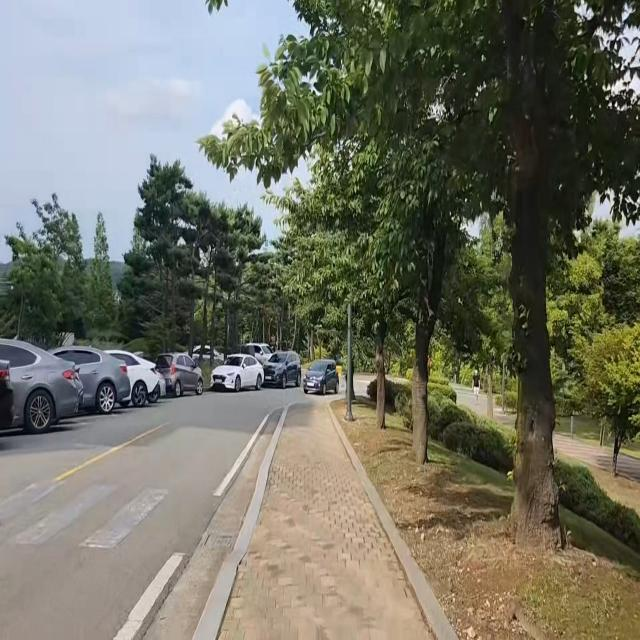obstacle: (42, 344, 206, 433), (0, 329, 89, 455), (204, 344, 304, 394), (302, 355, 341, 399)
road: (0, 394, 291, 640)
sidewalk: (196, 397, 460, 640)
